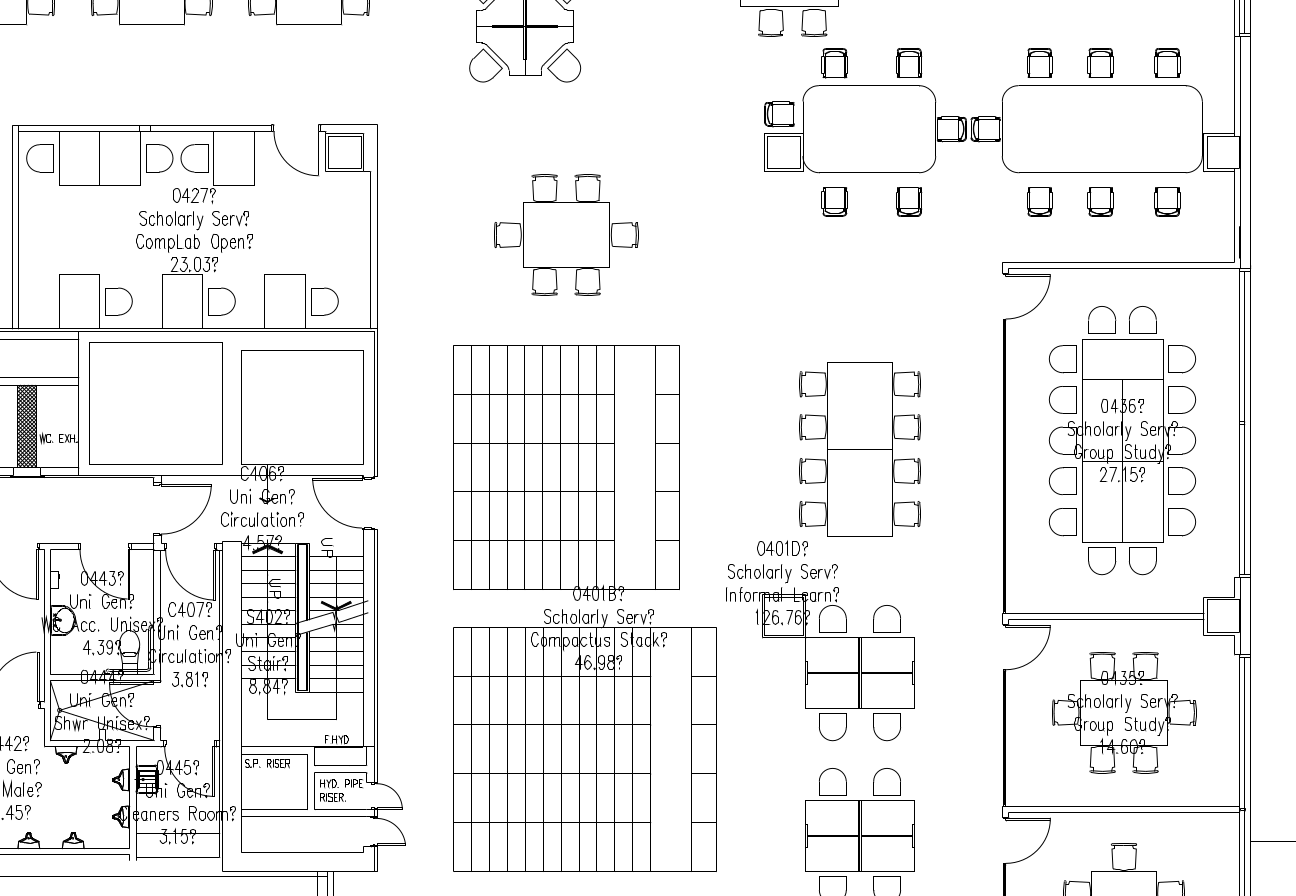door: (160, 535, 218, 601), (77, 539, 135, 605), (159, 733, 217, 799), (152, 478, 215, 534), (299, 476, 362, 532), (261, 123, 324, 179), (1001, 270, 1064, 326), (991, 620, 1054, 676), (993, 814, 1056, 870), (369, 773, 408, 815), (370, 815, 409, 857)
